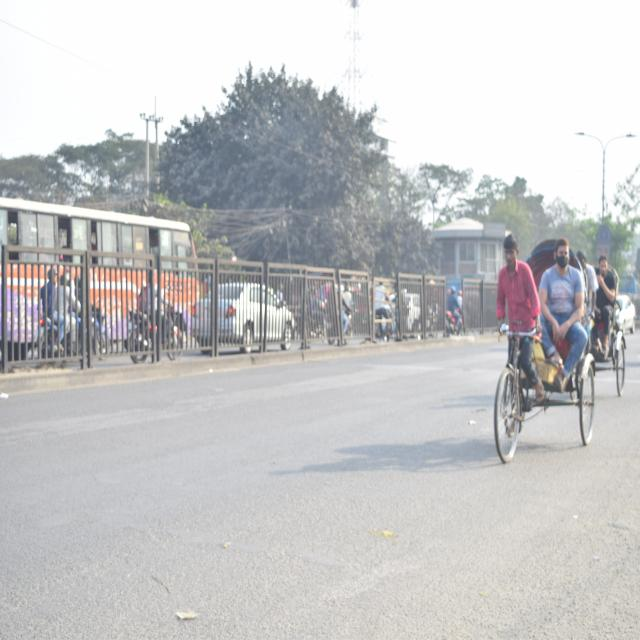bus: (0, 193, 201, 328)
car: (204, 278, 295, 356), (615, 290, 640, 338)
motorbike: (33, 297, 104, 371), (122, 309, 187, 370), (440, 298, 461, 342)
